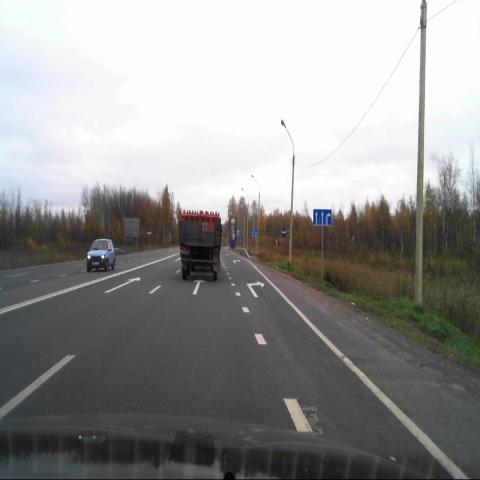5_15_1: (313, 209, 332, 226)
